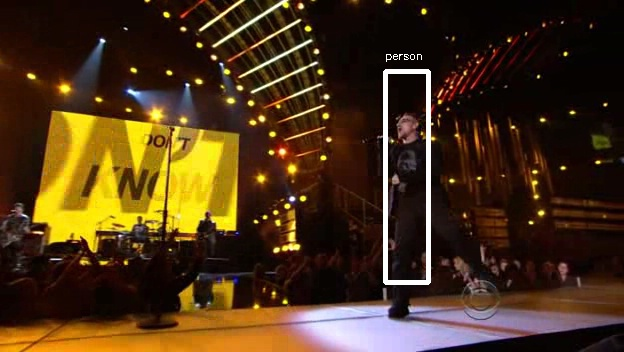person: (380, 113, 447, 225), (377, 113, 444, 225), (383, 113, 450, 225), (380, 110, 447, 222), (380, 116, 447, 228)
target_negative: (94, 38, 412, 247), (141, 5, 237, 341), (324, 179, 479, 346), (494, 154, 610, 315), (139, 138, 269, 266), (525, 133, 559, 255)
